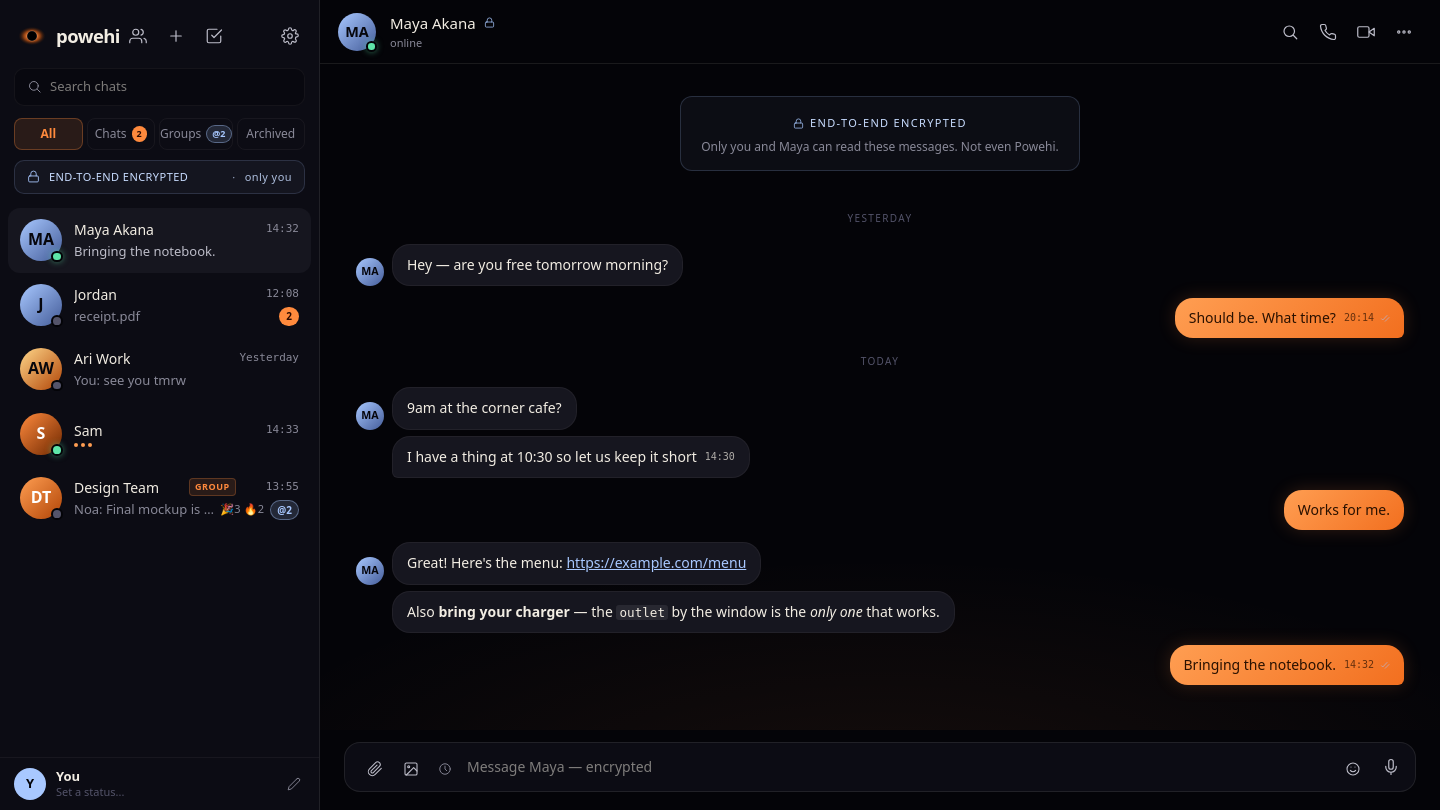
Test case: ChatLayout — group read receipts (per-member 'Seen by N') › does not double-count a repeated read_receipt from the same device
Click the button named "new group".
click(138, 36)  # box top-left (120, 18), bottom-right (156, 54)
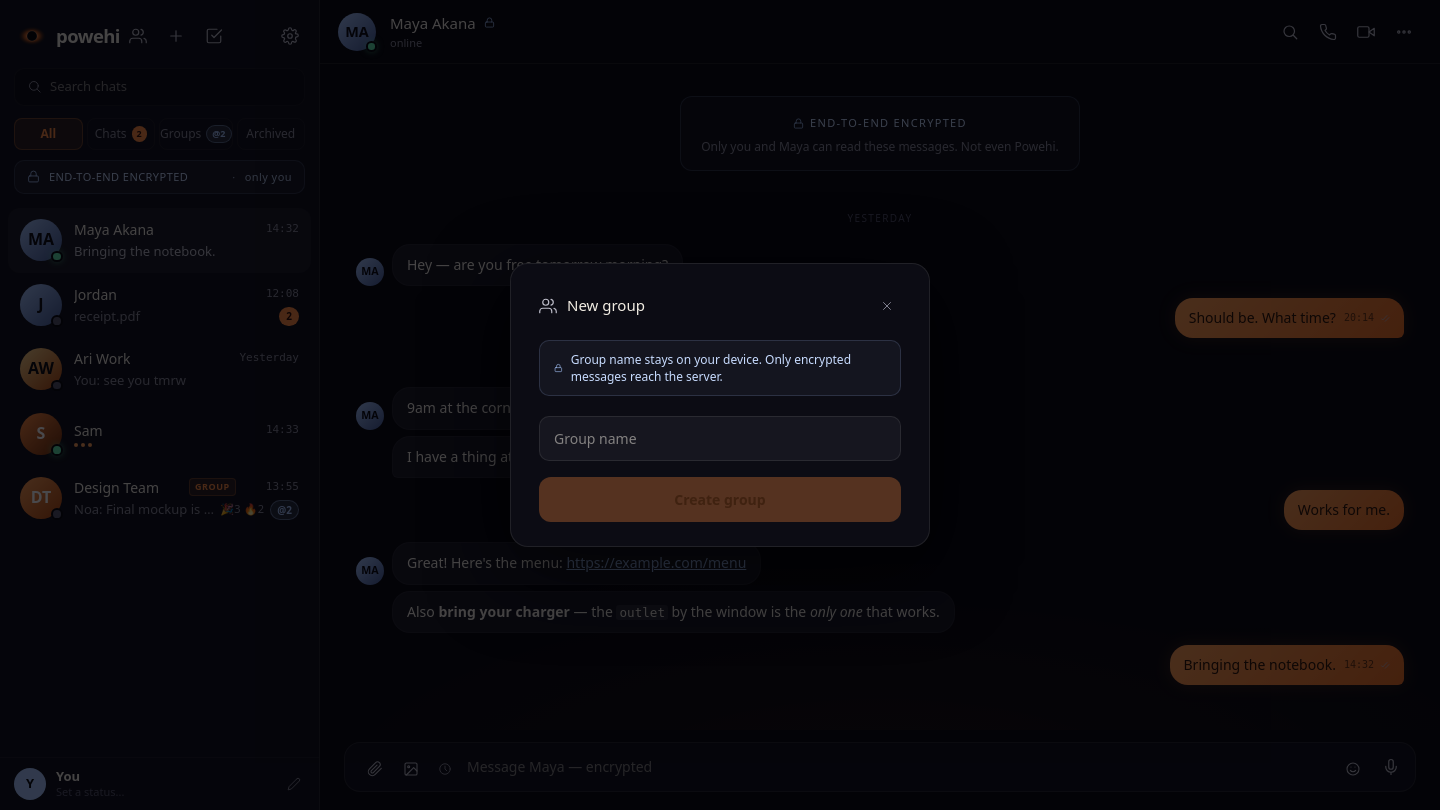
Type "Dedup Group" into the field with test id "group-name-input".
click(720, 439); type("Dedup Group")  # box top-left (539, 416), bottom-right (901, 461)
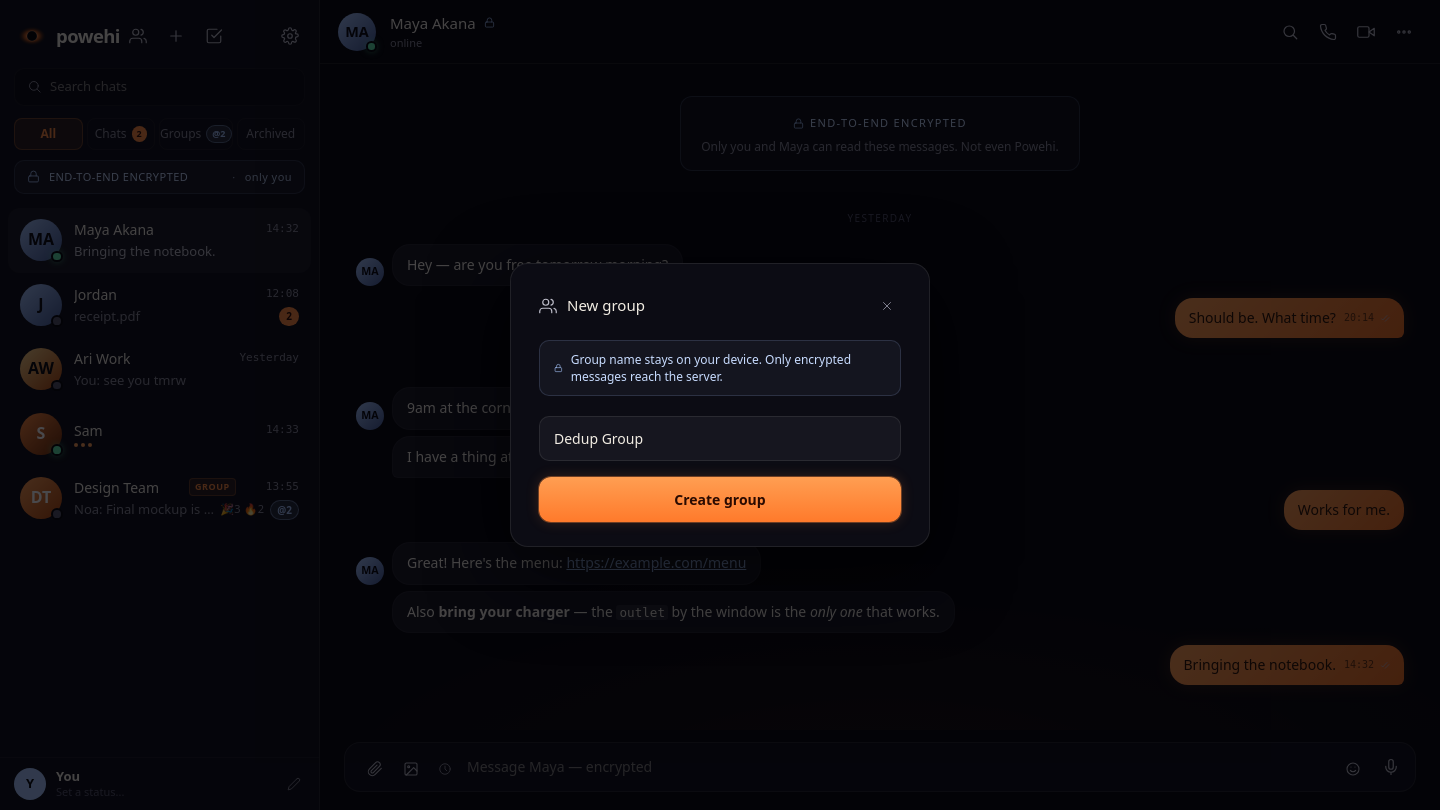
Click the button with test id "create-group-submit".
click(720, 500)  # box top-left (539, 477), bottom-right (901, 522)
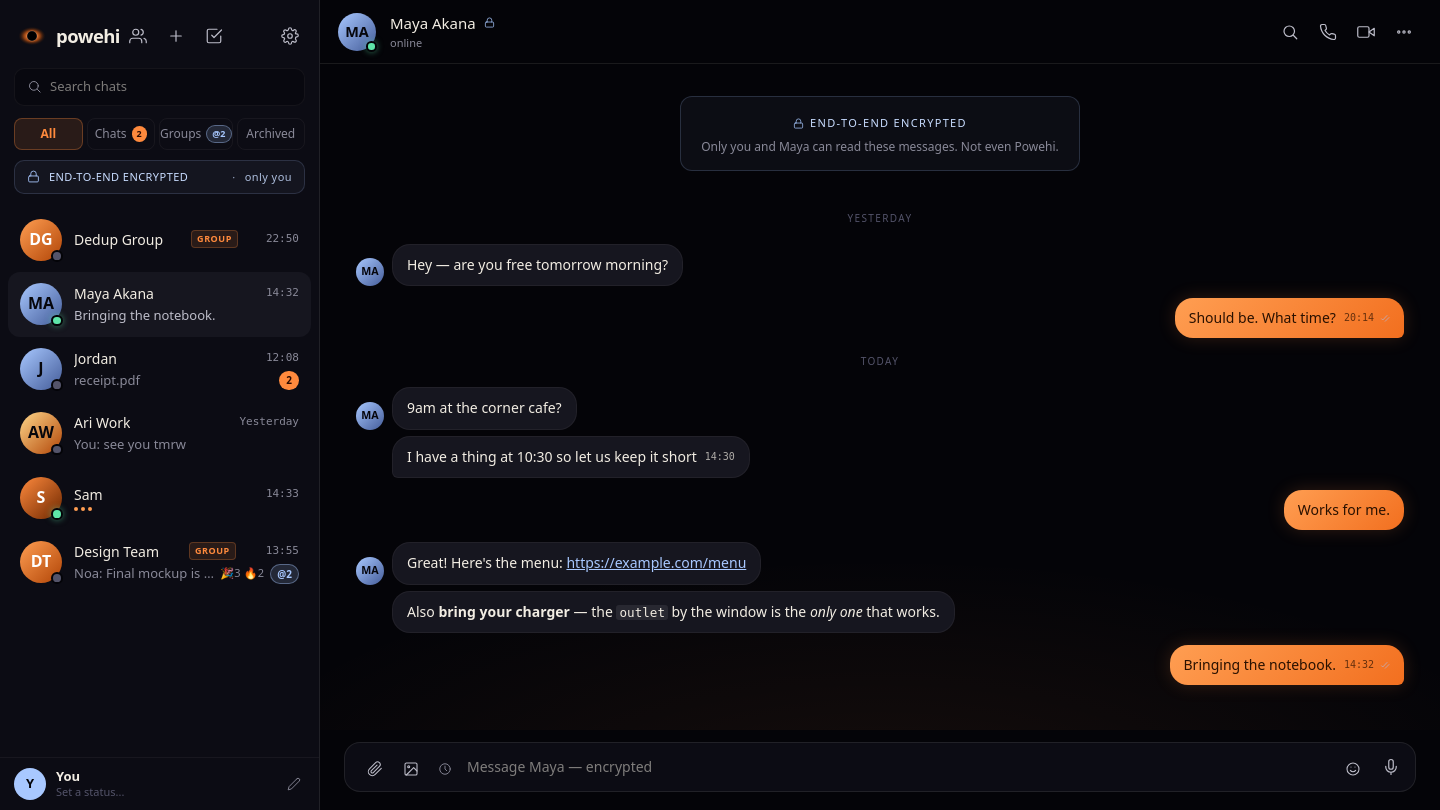
Check: the text "Dedup Group" is shown, box top-left (74, 228), bottom-right (163, 250)
Click the button "DG Dedup Group GROUP 22:50".
click(160, 240)  # box top-left (8, 208), bottom-right (311, 272)
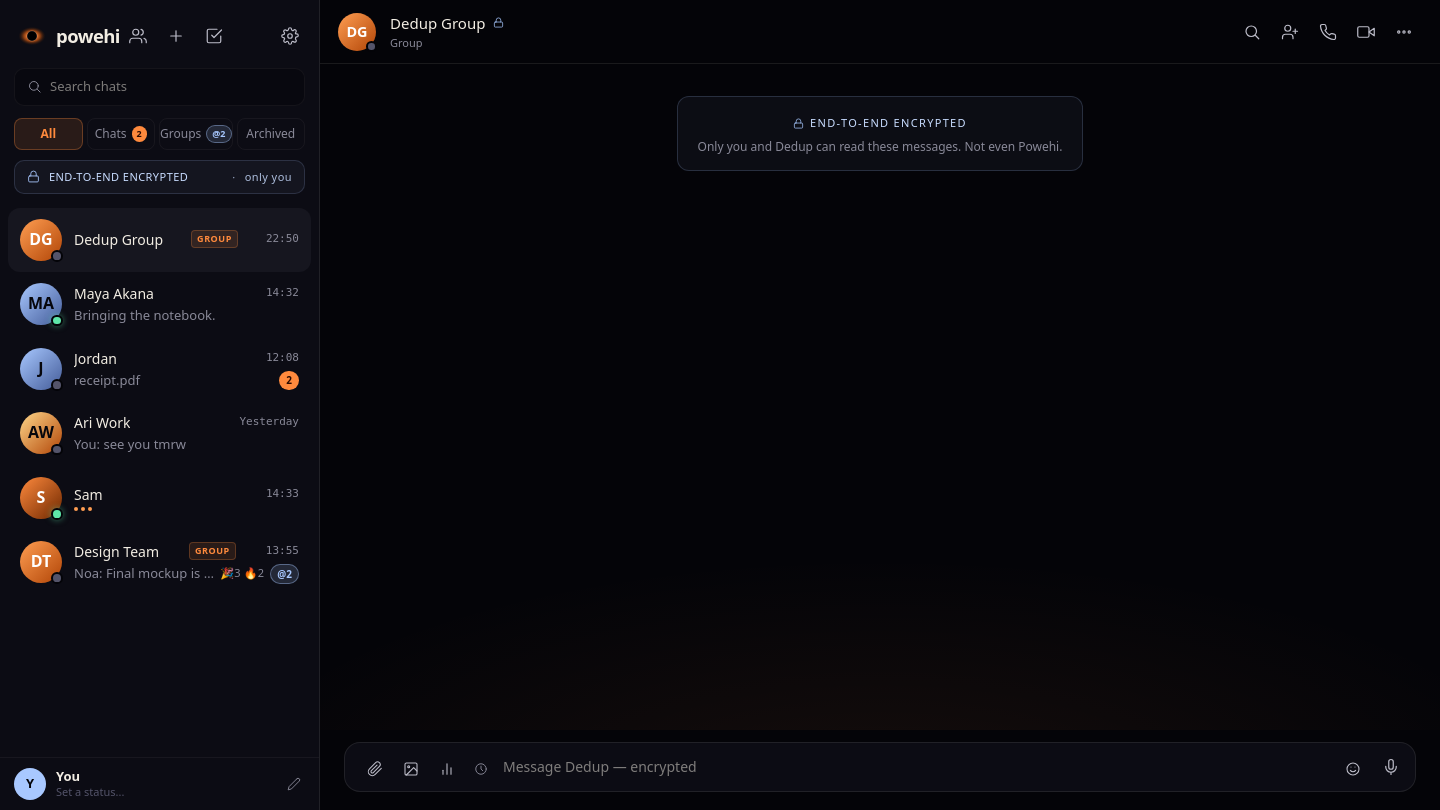
Check: the text "Group" is shown, box top-left (390, 35), bottom-right (423, 50)
Type "hello again" into the text box with placeholder "Message Dedup — encrypted".
click(916, 767); type("hello again")  # box top-left (499, 749), bottom-right (1333, 785)
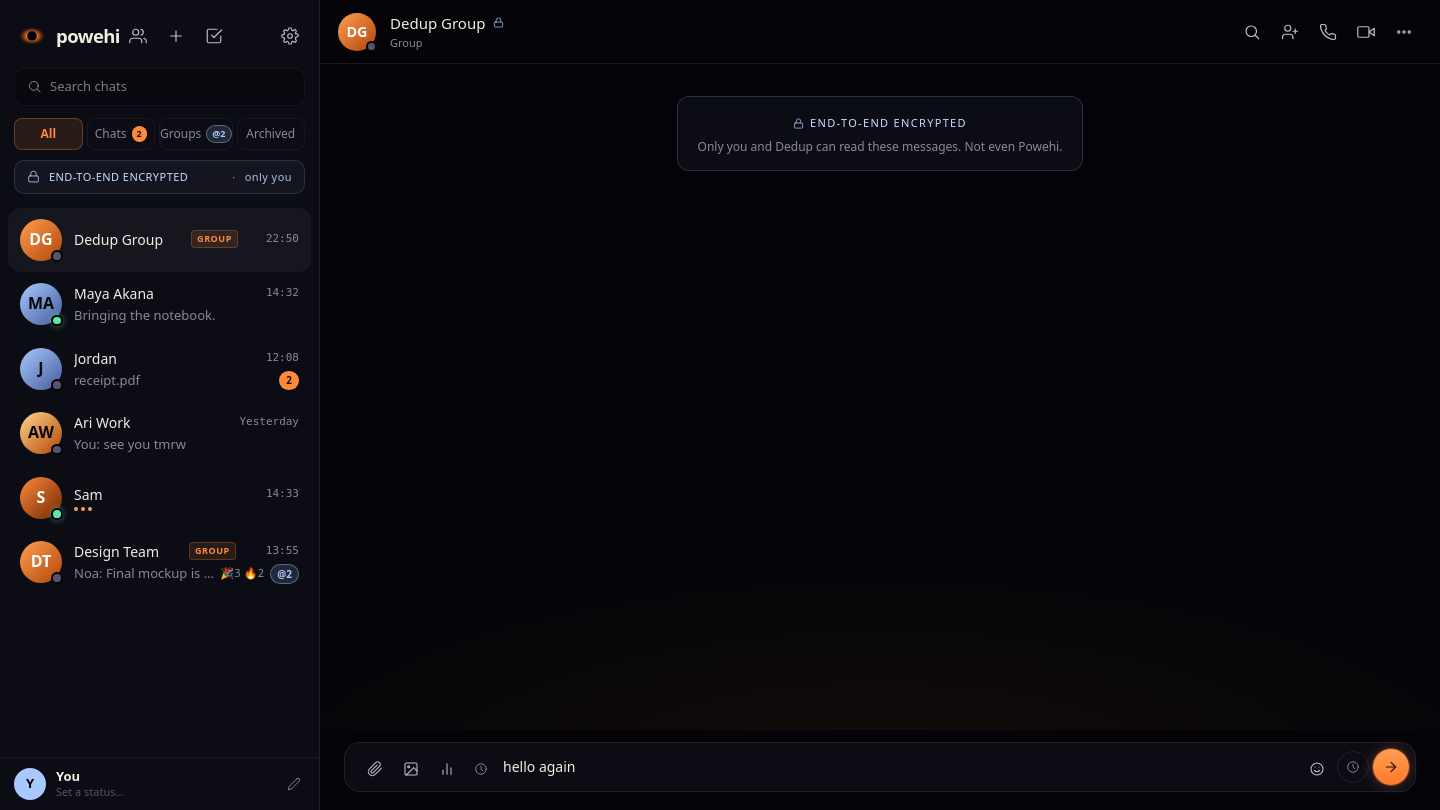
Click the button named "send message".
click(1391, 767)  # box top-left (1373, 749), bottom-right (1409, 785)
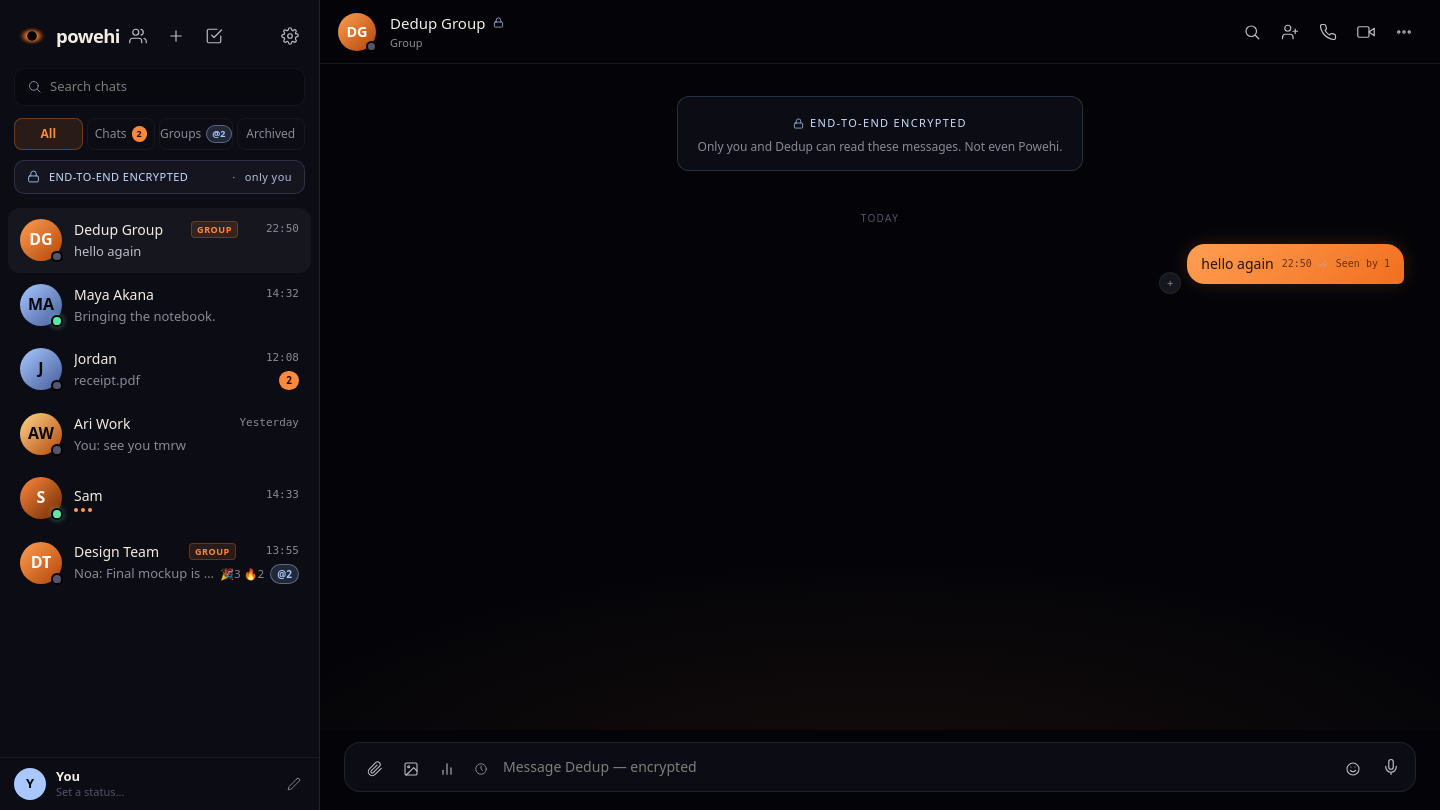
Check: the text with test id "seen-by-indicator" reads "Seen by 1", box top-left (1336, 258), bottom-right (1390, 269)
